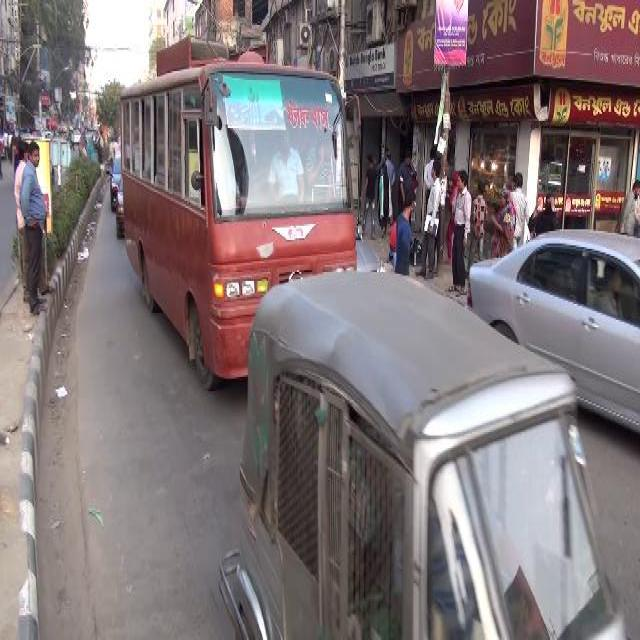bus: (120, 31, 356, 275)
car: (461, 219, 639, 421)
three wheelers -CNG-: (216, 266, 630, 634)
